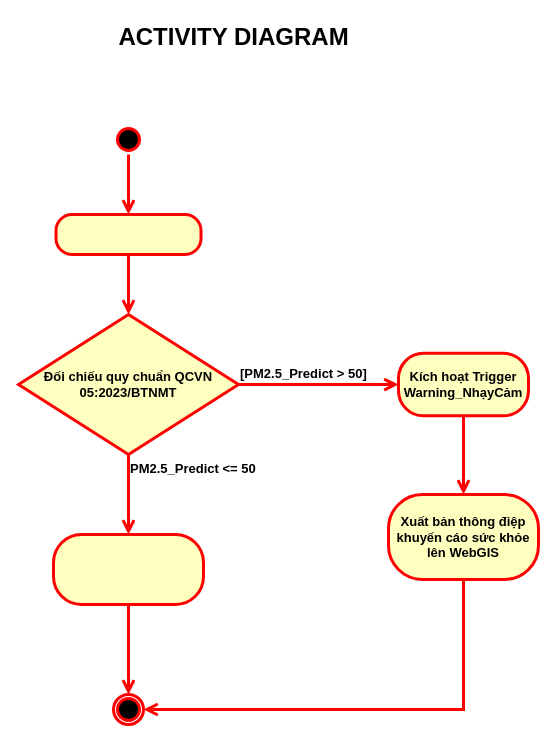
The diagram is 557 pixels wide and 743 high, and some of its shapes have lost their labels. Each missing label, with the centre of its shape:
"Hiển thị trạng thái không khí bình thường" belongs at point (128, 569).
"Nhận kết quả dự báo PM2.5 từ AI Engine" belongs at point (128, 234).
